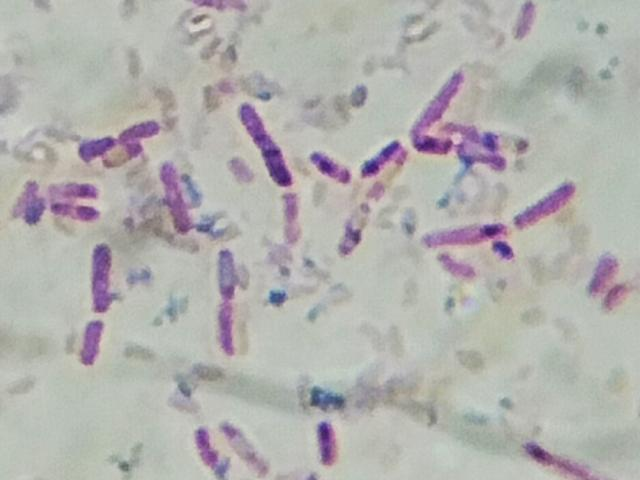E. coli: (238, 102, 294, 189), (515, 179, 581, 237), (520, 431, 586, 480), (445, 116, 529, 152), (421, 219, 506, 254), (162, 159, 192, 240), (422, 67, 467, 120), (223, 423, 265, 477), (308, 417, 350, 469), (88, 237, 115, 313), (188, 423, 223, 479), (433, 246, 482, 285), (213, 290, 239, 359), (73, 320, 107, 368), (506, 0, 539, 49), (372, 151, 405, 199), (583, 250, 617, 293), (79, 130, 119, 165), (310, 146, 349, 181), (55, 200, 105, 227), (121, 113, 166, 143), (339, 199, 365, 250), (364, 134, 394, 177), (18, 178, 44, 224), (465, 147, 509, 174), (52, 182, 99, 201), (219, 249, 239, 289), (608, 275, 629, 313), (416, 133, 449, 154)
